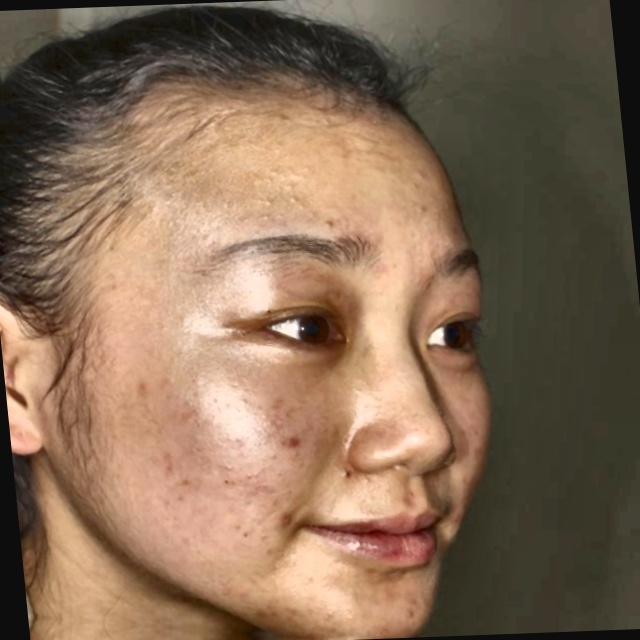comedone: (265, 504, 302, 541), (283, 427, 312, 454)
